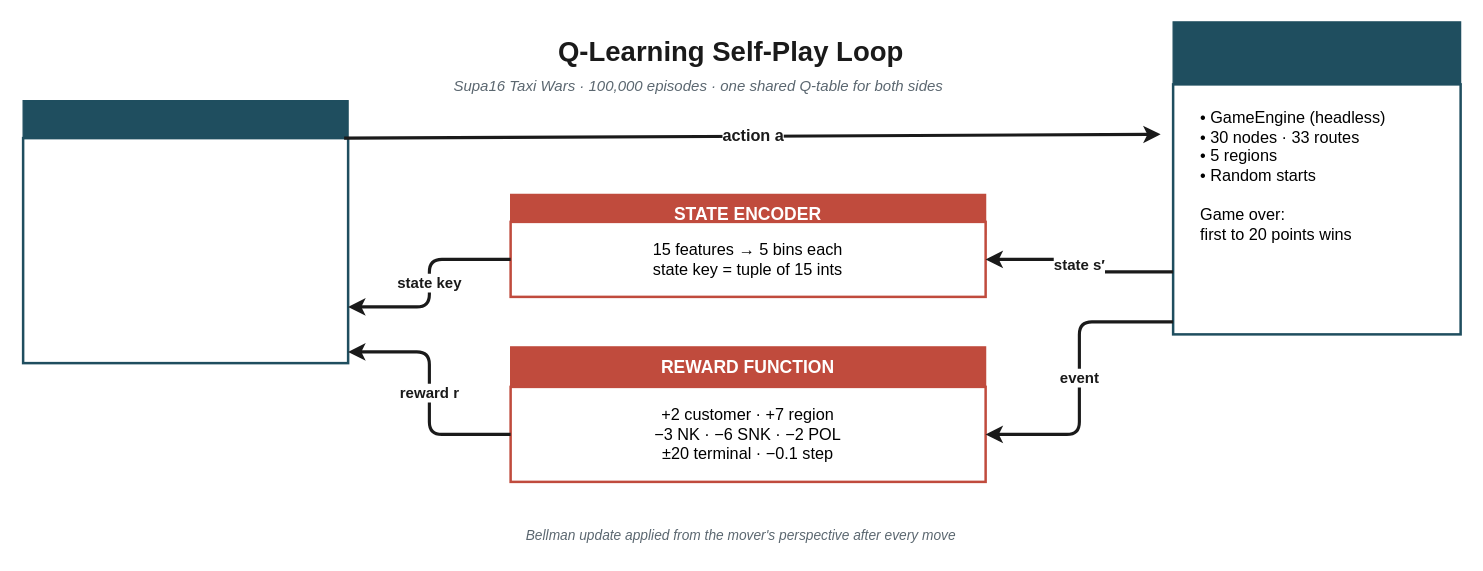
The diagram is 1483 pixels wide and 571 high, and some of its shapes have lost their labels. Here are the shapes that lost their labels. From the top down, the box of each, then its label:
(1172, 21, 1461, 84): ENVIRONMENT
(22, 99, 348, 138): AGENT
(21, 136, 349, 364): • Q-table • ε-greedy policy • Bellman update α = 0.15 γ = 0.95 ε: 1.0 → 0.05
